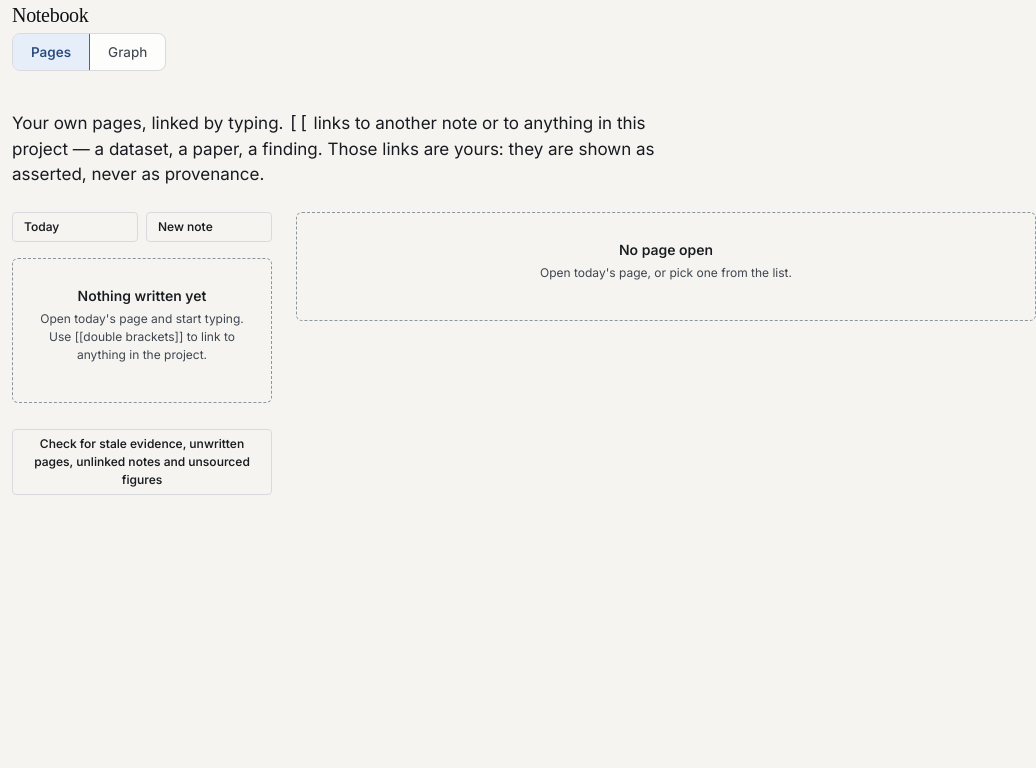
Test: creating a note › asks for the title inline rather than through a blocking dialog
Click the button "New note" at x=209, y=226, box x1=146 y1=212 x2=272 y2=242
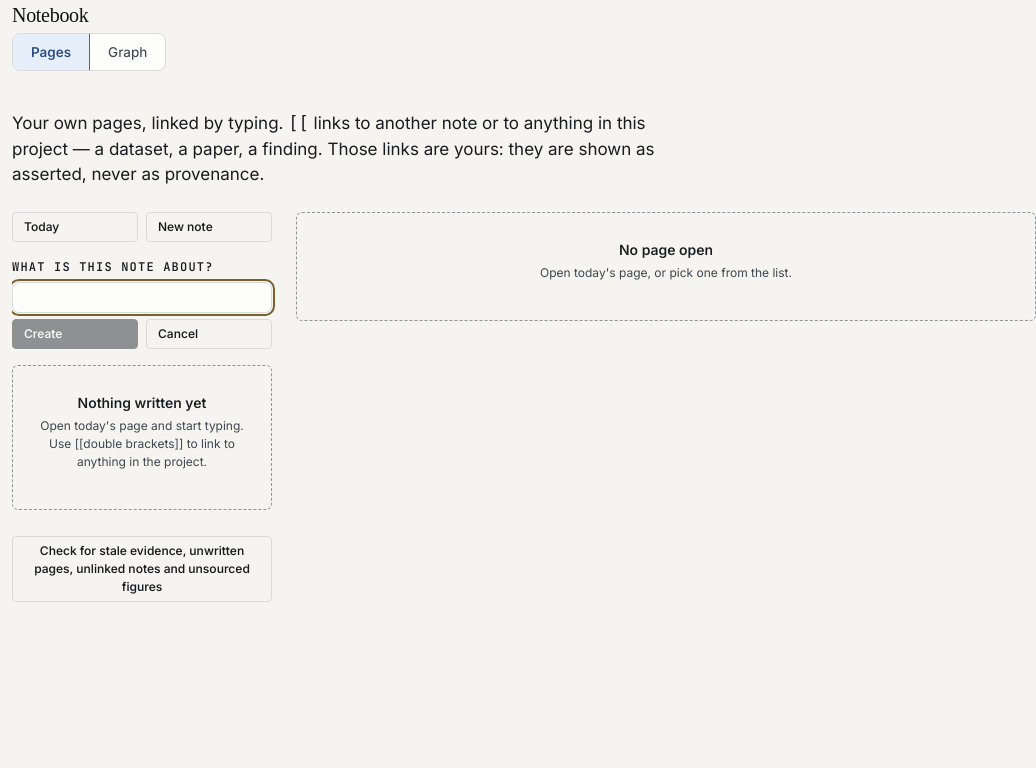
Expected: the field labelled "What is this note about?" is shown, x1=12 y1=282 x2=272 y2=312
